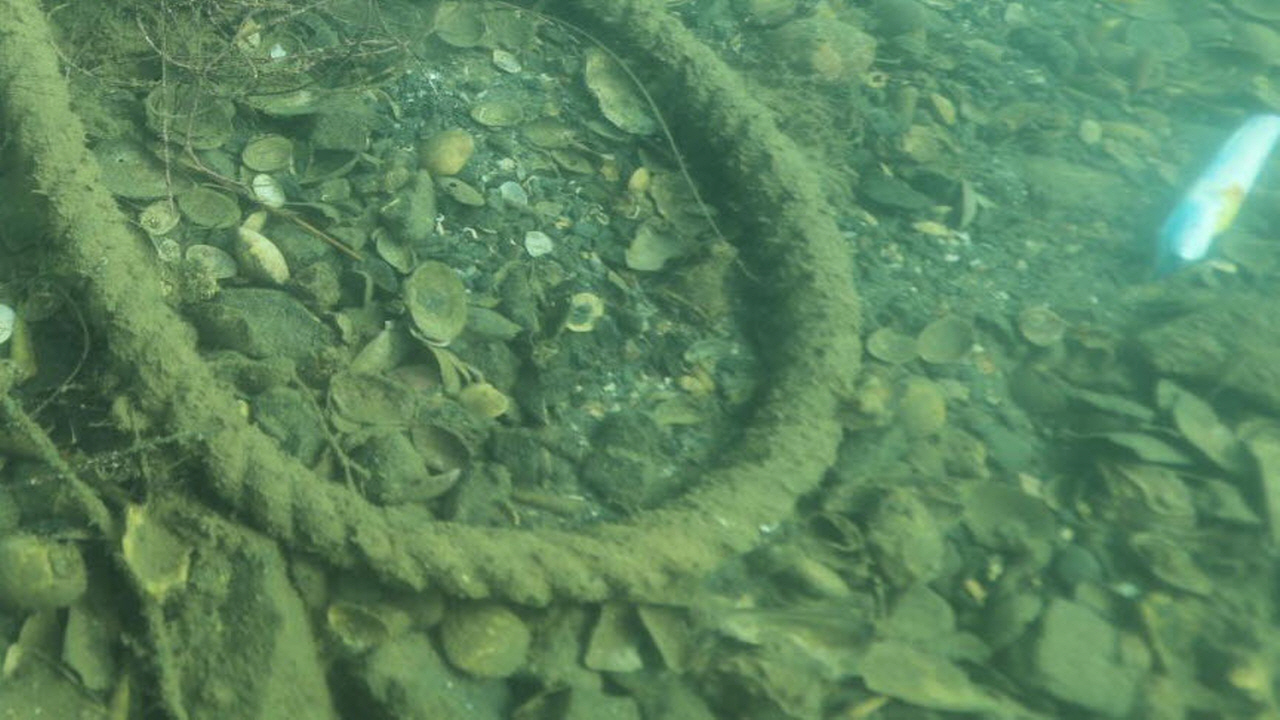rope: (0, 1, 862, 603)
